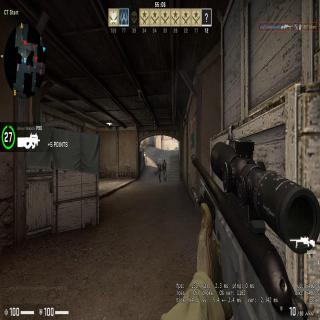T-Body: (161, 159, 168, 182)
T-Head: (164, 159, 165, 163)
